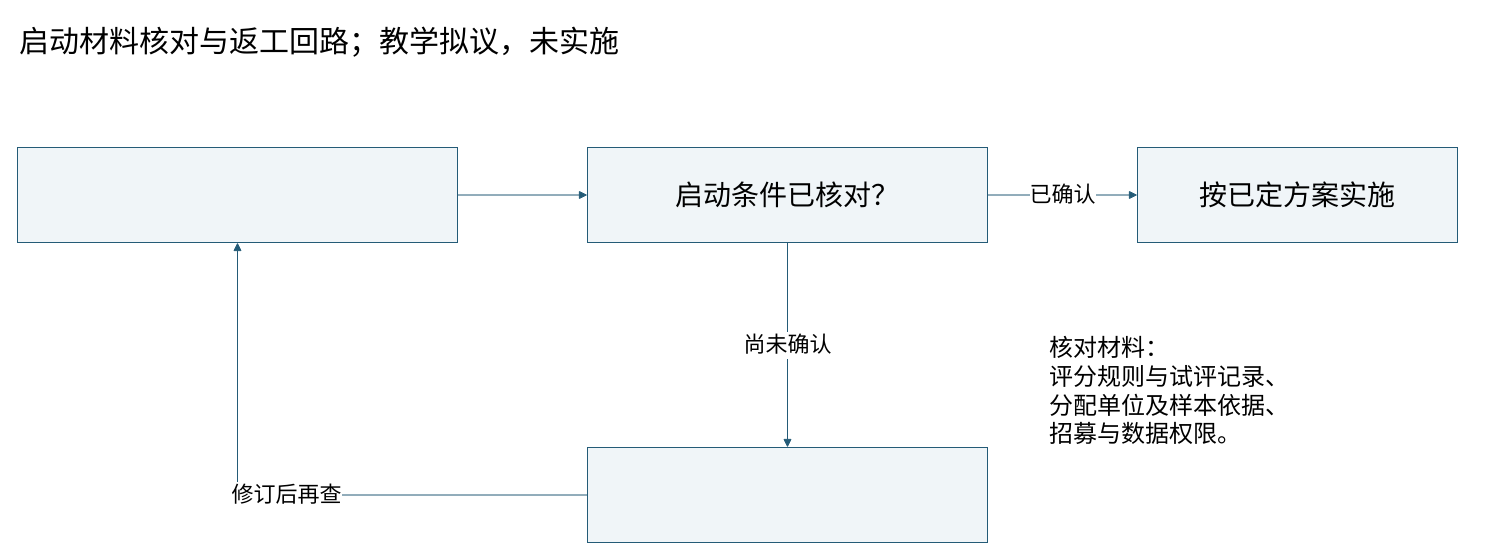
The diagram is 1495 pixels wide and 560 high, and some of its shapes have lost their labels. Here are the shapes that lost their labels. From the top down, the box of each, then its label:
(16, 146, 458, 242): 预试材料与检查记录
(586, 446, 988, 542): 补材料／修订版本
